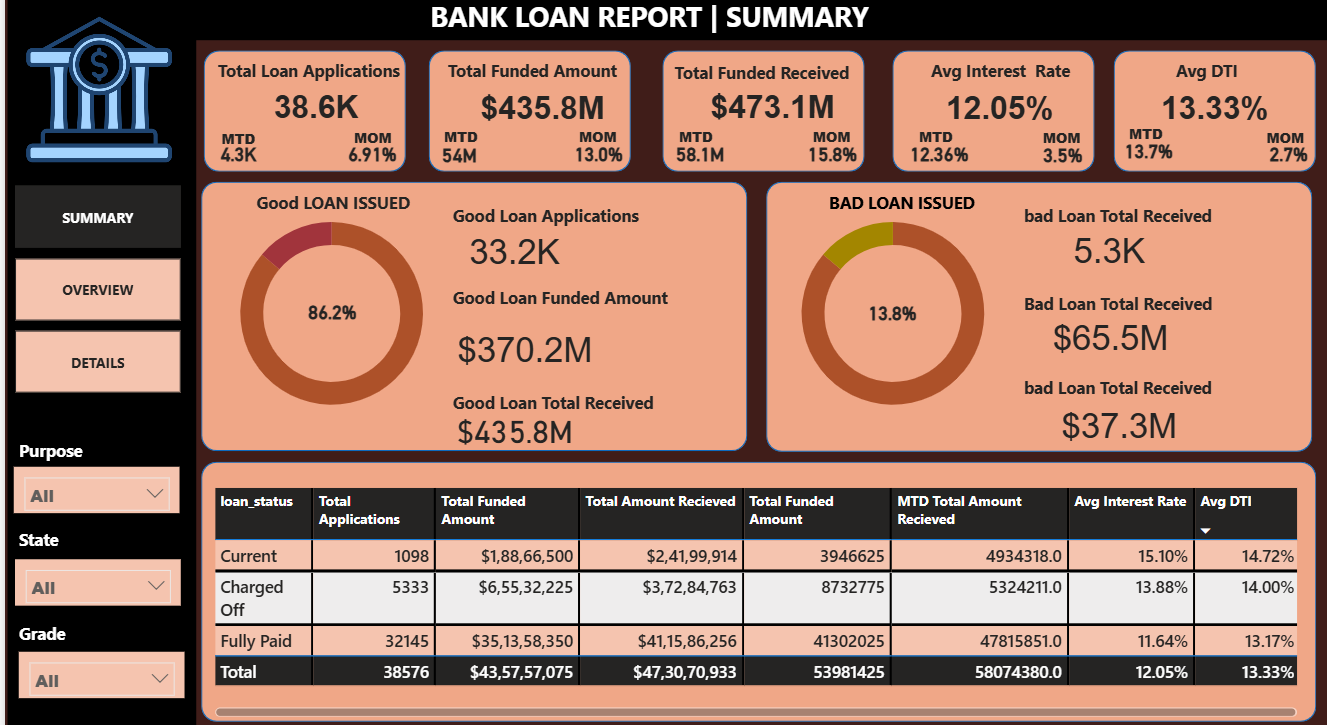

What the dashboard file says about the page in this screenshot:
{"tool":"powerbi","page":{"name":"SUMMARY","canvas":[1280,720],"ordinal":0},"visuals":[{"type":"shape","box":[2.4,3.6,182.2,716.6],"z":0},{"type":"shape","box":[182.2,0,1097.9,50.7],"z":1000},{"type":"shape","box":[856.2,60,195,117],"z":1000,"group":"g5"},{"type":"shape","box":[1070.3,60,195,117],"z":2000,"group":"g2"},{"type":"shape","box":[189.4,457.2,1076.1,250.9],"z":2000},{"type":"shape","box":[633.9,60.3,195,117],"z":3000,"group":"g4"},{"type":"shape","box":[734.7,187,527,260.6],"z":3000},{"type":"shape","box":[408.9,60,195,117],"z":4000,"group":"g3"},{"type":"shape","box":[189.4,187,527,260],"z":4000},{"type":"shape","box":[192.1,60,195,117],"z":5000,"group":"g1"},{"type":"donutChart","fields":{"Y":["financial_loan (1) (1).Total Applications"],"Category":["financial_loan (1) (1).god_bad"]},"box":[190.6,199.1,249.7,230.4],"z":5000},{"type":"card","fields":{"Values":["financial_loan (1) (1).Good_loan%"]},"box":[281.1,295.6,70,36.2],"z":6000},{"type":"card","fields":{"Values":["financial_loan (1) (1).bad%"]},"box":[819.2,290.8,74.8,47.1],"z":7000},{"type":"card","fields":{"Values":["financial_loan (1) (1).Good_count"]},"box":[429.5,229.2,124.9,49.4],"z":8000},{"type":"card","fields":{"Values":["financial_loan (1) (1).Total Funded Amount"]},"box":[429.5,401.7,125.5,49.5],"z":9000},{"type":"card","fields":{"Values":["financial_loan (1) (1).TFAG"]},"box":[430.7,313.7,142.4,70],"z":10000},{"type":"textbox","box":[426.8,204.5,196.2,38.4],"z":11000},{"type":"textbox","box":[426.8,282.7,220.9,41.2],"z":12000},{"type":"textbox","box":[426.8,384.2,212.7,38.4],"z":13000},{"type":"card","title":"Total Loan Applications","fields":{"Values":["financial_loan (1) (1).Total Applications"]},"box":[230.5,96.5,140,35.7],"z":14000,"group":"g1"},{"type":"card","fields":{"Values":["financial_loan (1) (1).BAD loan"]},"box":[1012.2,396.9,126.7,49.5],"z":14000},{"type":"card","fields":{"Values":["financial_loan (1) (1).Total Funded Amount"]},"box":[448.8,96.8,140,35],"z":15000,"group":"g3"},{"type":"card","fields":{"Values":["financial_loan (1) (1).bad_loan applications"]},"box":[1005.8,233.3,119.4,39.8],"z":15000},{"type":"card","fields":{"Values":["financial_loan (1) (1).SUM"]},"box":[670.3,96.8,140,35],"z":16000,"group":"g4"},{"type":"card","fields":{"Values":["financial_loan (1) (1).bad_loan_rec"]},"box":[1005,313.7,124.3,45.8],"z":16000},{"type":"textbox","box":[978.4,369.1,212.7,38.4],"z":17000},{"type":"card","fields":{"Values":["financial_loan (1) (1).avg_int"]},"box":[889.8,96.8,140,35],"z":18000,"group":"g5"},{"type":"textbox","box":[978.4,288.2,212.7,38.4],"z":18000},{"type":"card","fields":{"Values":["financial_loan (1) (1).avg_dti"]},"box":[1098.6,96.8,140,35],"z":19000,"group":"g2"},{"type":"textbox","box":[978.4,204.5,212.7,38.4],"z":19000},{"type":"textbox","box":[405.4,3.6,454.8,47.1],"z":20000},{"type":"textbox","box":[200.3,63.9,199.1,32.6],"z":20000,"group":"g1"},{"type":"group","id":"g1","title":"Group 1","box":[192.1,60,207.2,117],"z":21000},{"type":"group","id":"g2","title":"Group 2","box":[1070.3,60,199,117],"z":22000},{"type":"group","id":"g3","title":"Group 5","box":[408.9,60,644.3,117.3],"z":23000},{"type":"donutChart","fields":{"Category":["financial_loan (1) (1).god_bad"],"Y":["financial_loan (1) (1).Total Applications"]},"box":[732.3,199.1,249.7,230.4],"z":24000},{"type":"textbox","box":[422.2,63.9,194.2,32.6],"z":25000,"group":"g3"},{"type":"tableEx","fields":{"Values":["financial_loan (1) (1).loan_status","financial_loan (1) (1).Total Applications","financial_loan (1) (1).Total Funded Amount","financial_loan (1) (1).SUM","financial_loan (1) (1).TFA","financial_loan (1) (1).TTL","financial_loan (1) (1).avg_int","financial_loan (1) (1).avg_dti"]},"box":[196.6,477.8,1055.6,230.4],"z":25000},{"type":"image","box":[13.3,22.9,155.6,150.8],"z":26000},{"type":"textbox","box":[634.5,65.1,189.4,42.2],"z":26000,"group":"g4"},{"type":"textbox","box":[866.2,63.9,187,32.6],"z":27000,"group":"g5"},{"type":"slicer","fields":{"Values":["financial_loan (1) (1).address_state"]},"box":[9.7,551.1,160,45],"z":27000},{"type":"textbox","box":[1099,63.9,121.9,32.6],"z":28000,"group":"g2"},{"type":"textbox","box":[8.4,516.4,71.2,35],"z":28000},{"type":"slicer","fields":{"Values":["financial_loan (1) (1).grade"]},"box":[13.3,640.6,160,45],"z":29000},{"type":"textbox","box":[8.4,606.8,74.8,33.8],"z":30000},{"type":"slicer","fields":{"Values":["financial_loan (1) (1).purpose"]},"box":[8.2,461.6,160,45],"z":31000},{"type":"textbox","box":[8.4,430.7,95.3,35],"z":32000},{"type":"textbox","box":[218.4,190.6,196.6,38.6],"z":33000},{"type":"textbox","box":[767.3,190.6,196.6,38.6],"z":34000},{"type":"pageNavigator","box":[10.1,190.6,160,200],"z":35000},{"type":"card","fields":{"Values":["financial_loan (1) (1).currant_mtd."]},"box":[196.2,145.4,60.4,30.2],"z":41000,"group":"g1"},{"type":"card","fields":{"Values":["financial_loan (1) (1).mom"]},"box":[325.2,145.4,60.4,30.2],"z":42000,"group":"g1"},{"type":"textbox","box":[204.4,131.7,49.4,30.2],"z":43000,"group":"g1"},{"type":"textbox","box":[332.1,130.3,49.4,30.2],"z":44000,"group":"g1"},{"type":"card","fields":{"Values":["financial_loan (1) (1).TFA"]},"box":[408.9,146.8,59,26.1],"z":45000,"group":"g3"},{"type":"card","fields":{"Values":["financial_loan (1) (1).mom_3"]},"box":[543.4,145.4,60.4,30.2],"z":46000,"group":"g3"},{"type":"textbox","box":[418.5,128.9,49.4,30.2],"z":47000,"group":"g3"},{"type":"textbox","box":[548.9,128.9,49.4,30.2],"z":48000,"group":"g3"},{"type":"card","fields":{"Values":["financial_loan (1) (1).TTL"]},"box":[639.4,145.4,60.4,30.2],"z":49000,"group":"g4"},{"type":"card","fields":{"Values":["financial_loan (1) (1).MOM_4"]},"box":[768.4,145.4,60.4,30.2],"z":50000,"group":"g4"},{"type":"textbox","box":[644.9,128.9,49.4,30.2],"z":51000,"group":"g4"},{"type":"textbox","box":[773.9,128.9,49.4,30.2],"z":52000,"group":"g4"},{"type":"card","fields":{"Values":["financial_loan (1) (1).avd_mtd"]},"box":[867.2,145.4,68.6,30.2],"z":53000,"group":"g5"},{"type":"card","fields":{"Values":["financial_loan (1) (1).avd_mom"]},"box":[990.7,146.8,59,30.2],"z":54000,"group":"g5"},{"type":"card","fields":{"Values":["financial_loan (1) (1).dti_mtd"]},"box":[1074.4,141.3,60.4,34.3],"z":55000,"group":"g2"},{"type":"card","fields":{"Values":["financial_loan (1) (1).dti_mom"]},"box":[1208.9,145.4,60.4,30.2],"z":56000,"group":"g2"},{"type":"textbox","box":[996.2,130.3,49.4,30.2],"z":57000,"group":"g5"},{"type":"textbox","box":[876.8,128.9,49.4,30.2],"z":58000,"group":"g5"},{"type":"textbox","box":[1213,130.3,49.4,30.2],"z":59000,"group":"g2"},{"type":"textbox","box":[1079.9,126.2,49.4,30.2],"z":60000,"group":"g2"},{"type":"group","id":"g4","title":"Group 3","box":[633.9,60.3,195,117],"z":62003,"group":"g5"},{"type":"group","id":"g5","title":"Group 4","box":[633.9,60,419.3,117.3],"z":62004,"group":"g3"}]}

Visuals, with their boxes in screenshot pixels (x1, y1, x2, y2), scaled from the page's 1280x720 canvas onto the 1327x725 screenshot:
shape: <box>2,4,191,724</box>
shape: <box>189,0,1326,51</box>
shape: <box>888,60,1090,178</box>
shape: <box>1110,60,1312,178</box>
shape: <box>196,460,1312,713</box>
shape: <box>657,61,859,179</box>
shape: <box>762,188,1308,451</box>
shape: <box>424,60,626,178</box>
shape: <box>196,188,743,450</box>
shape: <box>199,60,401,178</box>
donutChart - financial_loan (1) (1).Total Applications x financial_loan (1) (1).god_bad: <box>198,200,456,432</box>
card - financial_loan (1) (1).Good_loan%: <box>291,298,364,334</box>
card - financial_loan (1) (1).bad%: <box>849,293,927,340</box>
card - financial_loan (1) (1).Good_count: <box>445,231,575,281</box>
card - financial_loan (1) (1).Total Funded Amount: <box>445,404,575,454</box>
card - financial_loan (1) (1).TFAG: <box>447,316,594,386</box>
textbox: <box>442,206,646,245</box>
textbox: <box>442,285,671,326</box>
textbox: <box>442,387,663,426</box>
"Total Loan Applications" card: <box>239,97,384,133</box>
card - financial_loan (1) (1).BAD loan: <box>1049,400,1181,449</box>
card - financial_loan (1) (1).Total Funded Amount: <box>465,97,610,133</box>
card - financial_loan (1) (1).bad_loan applications: <box>1043,235,1167,275</box>
card - financial_loan (1) (1).SUM: <box>695,97,840,133</box>
card - financial_loan (1) (1).bad_loan_rec: <box>1042,316,1171,362</box>
textbox: <box>1014,372,1235,410</box>
card - financial_loan (1) (1).avg_int: <box>922,97,1068,133</box>
textbox: <box>1014,290,1235,329</box>
card - financial_loan (1) (1).avg_dti: <box>1139,97,1284,133</box>
textbox: <box>1014,206,1235,245</box>
textbox: <box>420,4,892,51</box>
textbox: <box>208,64,414,97</box>
"Group 1" group: <box>199,60,414,178</box>
"Group 2" group: <box>1110,60,1316,178</box>
"Group 5" group: <box>424,60,1092,179</box>
donutChart - financial_loan (1) (1).god_bad x financial_loan (1) (1).Total Applications: <box>759,200,1018,432</box>
textbox: <box>438,64,639,97</box>
tableEx - financial_loan (1) (1).loan_status x financial_loan (1) (1).Total Applications: <box>204,481,1298,713</box>
image: <box>14,23,175,175</box>
textbox: <box>658,66,854,108</box>
textbox: <box>898,64,1092,97</box>
slicer - financial_loan (1) (1).address_state: <box>10,555,176,600</box>
textbox: <box>1139,64,1266,97</box>
textbox: <box>9,520,83,555</box>
slicer - financial_loan (1) (1).grade: <box>14,645,180,690</box>
textbox: <box>9,611,86,645</box>
slicer - financial_loan (1) (1).purpose: <box>9,465,174,510</box>
textbox: <box>9,434,108,469</box>
textbox: <box>226,192,430,231</box>
textbox: <box>795,192,999,231</box>
pageNavigator: <box>10,192,176,393</box>
card - financial_loan (1) (1).currant_mtd.: <box>203,146,266,177</box>
card - financial_loan (1) (1).mom: <box>337,146,400,177</box>
textbox: <box>212,133,263,163</box>
textbox: <box>344,131,396,162</box>
card - financial_loan (1) (1).TFA: <box>424,148,485,174</box>
card - financial_loan (1) (1).mom_3: <box>563,146,626,177</box>
textbox: <box>434,130,485,160</box>
textbox: <box>569,130,620,160</box>
card - financial_loan (1) (1).TTL: <box>663,146,725,177</box>
card - financial_loan (1) (1).MOM_4: <box>797,146,859,177</box>
textbox: <box>669,130,720,160</box>
textbox: <box>802,130,854,160</box>
card - financial_loan (1) (1).avd_mtd: <box>899,146,970,177</box>
card - financial_loan (1) (1).avd_mom: <box>1027,148,1088,178</box>
card - financial_loan (1) (1).dti_mtd: <box>1114,142,1176,177</box>
card - financial_loan (1) (1).dti_mom: <box>1253,146,1316,177</box>
textbox: <box>1033,131,1084,162</box>
textbox: <box>909,130,960,160</box>
textbox: <box>1258,131,1309,162</box>
textbox: <box>1120,127,1171,157</box>
"Group 3" group: <box>657,61,859,179</box>
"Group 4" group: <box>657,60,1092,179</box>
